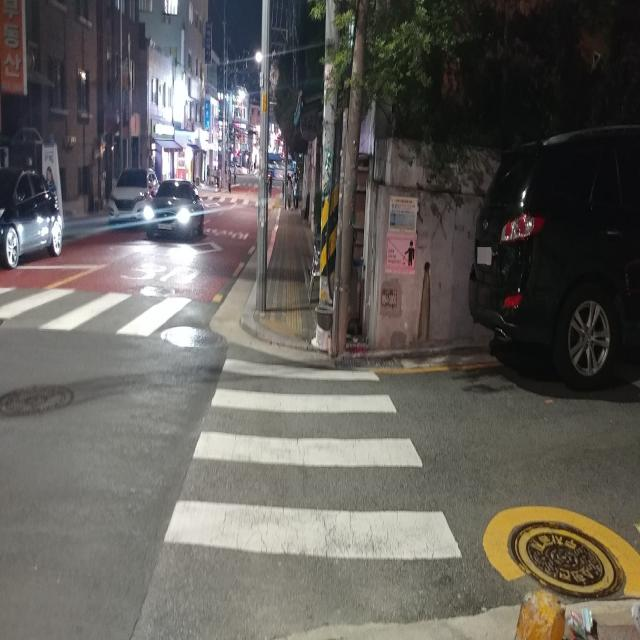횡단보도: (161, 354, 464, 564), (0, 283, 212, 343)
